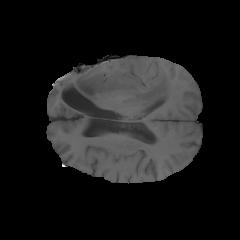glioma: (50, 68, 171, 116)
